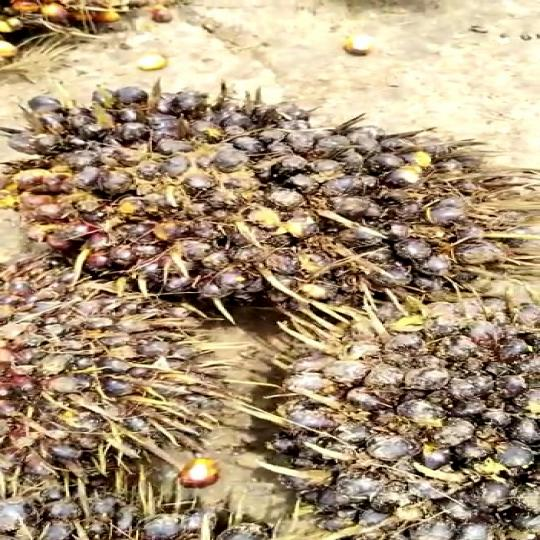mentah: (1, 75, 540, 337)
